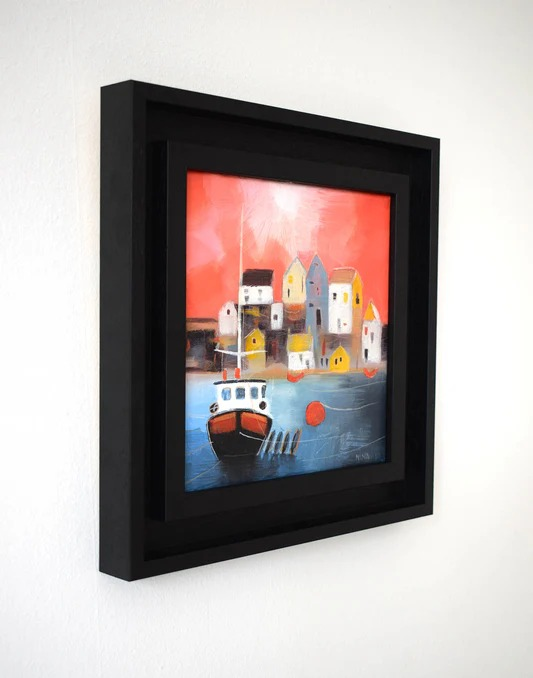painting: (97, 78, 442, 582)
